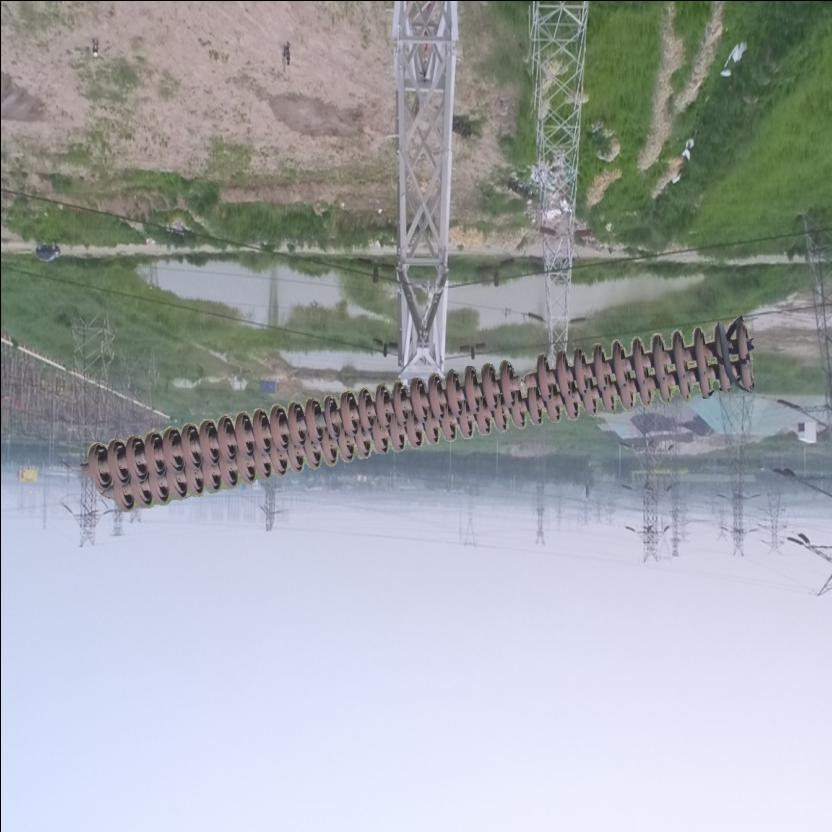defect: (495, 356, 554, 408)
